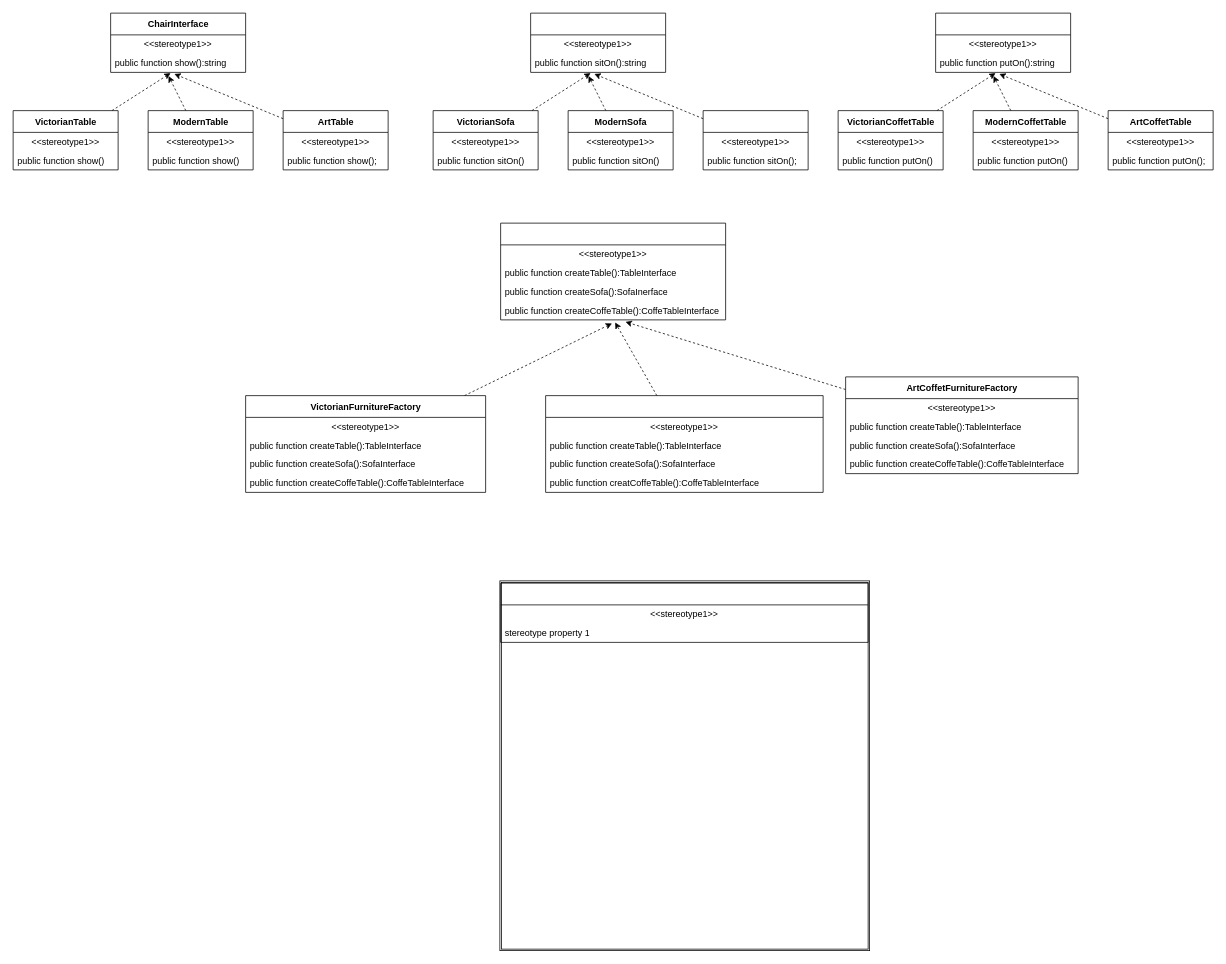
This 1226x964 diagram has some shape labels left out. Here are the shapes that lost their labels. From the top down, the box of each, then its label:
(530, 12, 666, 72): SofaInterface
(935, 12, 1071, 72): CoffetTableInterface
(702, 110, 808, 170): ArtSofa
(500, 222, 726, 320): FurnitureFactoryInterface
(545, 395, 823, 492): ModernFurnitureFactory
(500, 582, 868, 642): Main
